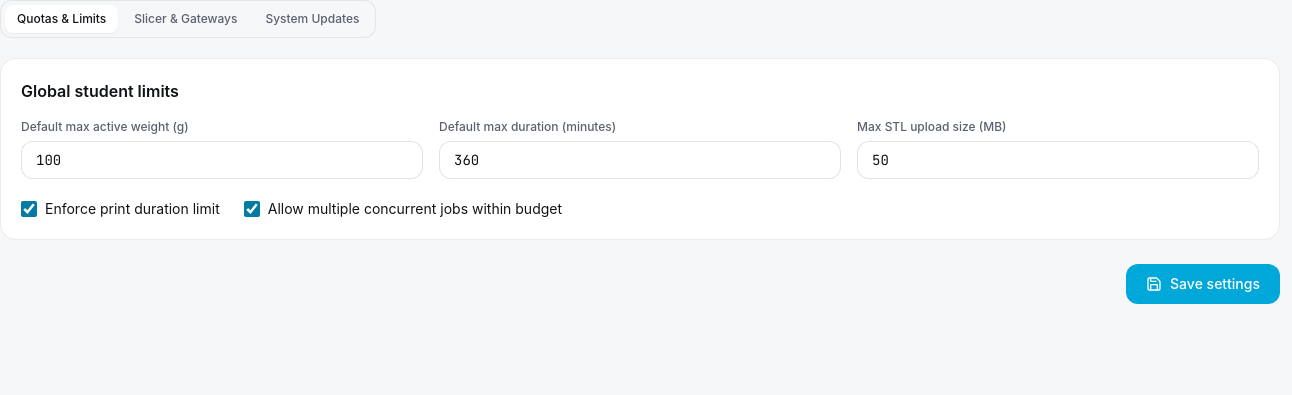
it: AdminSettingsTab › displays software version status under System Updates and forces an update check on click
The width and height of the screenshot is (1292, 395).
Click the tab "System Updates" at (312,19), box [254, 5, 372, 33]
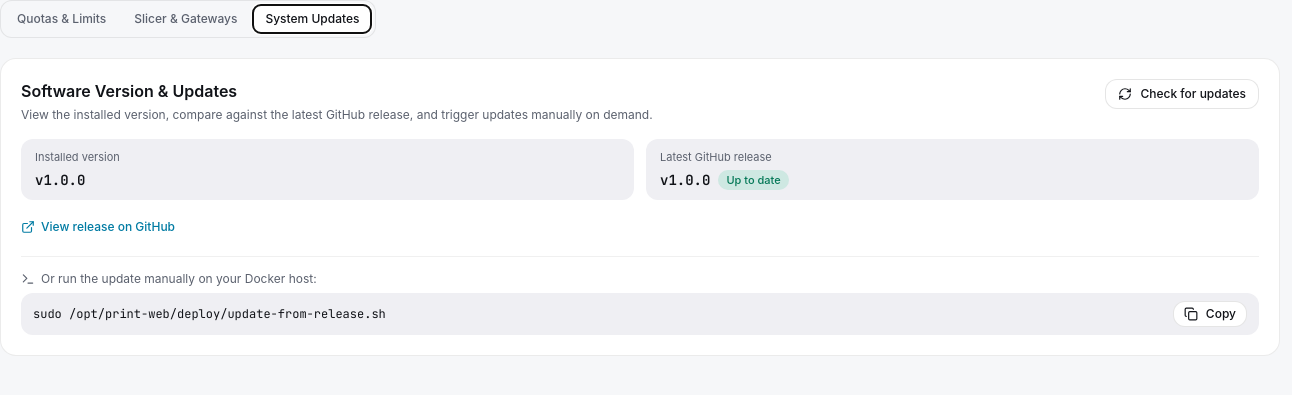
expect the text "Up to date" is shown: met, box [718, 170, 789, 190]
expect the text "sudo /opt/print-web/deploy/update-from-release.sh" is shown: met, box [33, 306, 386, 322]
Click the button "Check for updates" at (1182,94), box [1105, 79, 1259, 109]
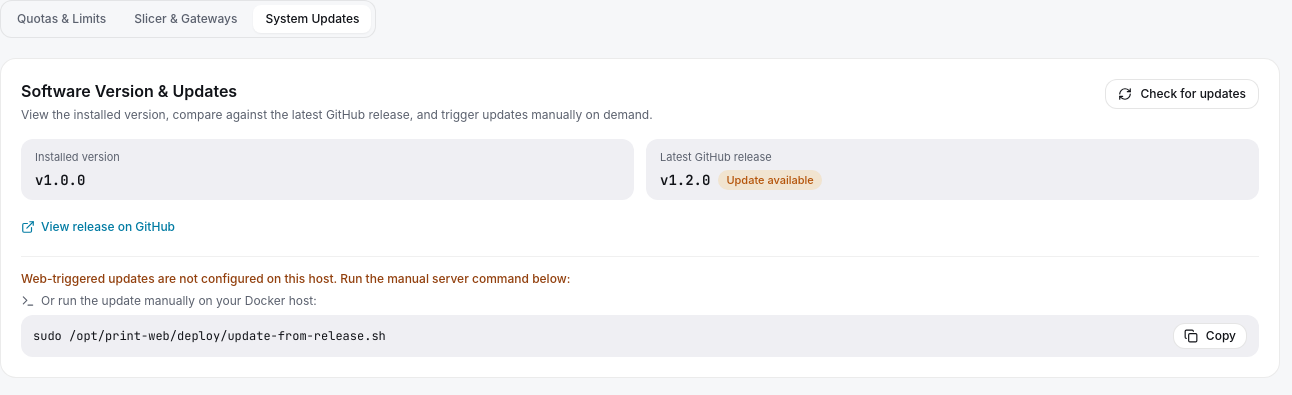
expect the text "Update available" is shown: met, box [718, 170, 822, 190]
expect the text "v1.2.0" is shown: met, box [660, 170, 710, 190]
